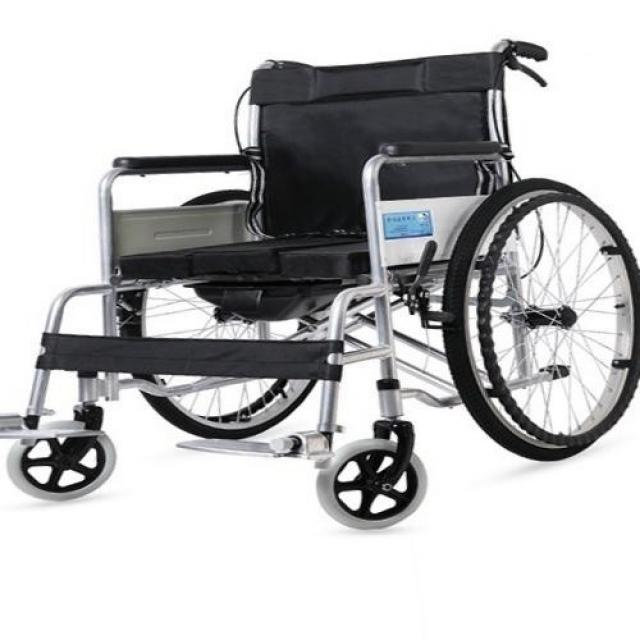wheelchair: (1, 28, 640, 534)
